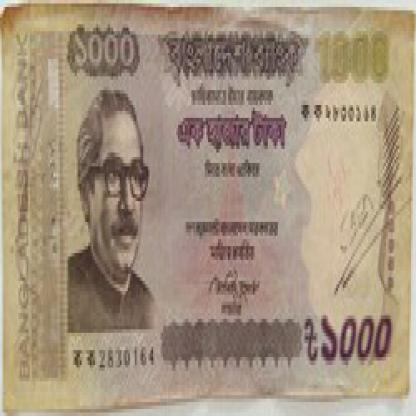One Thousand taka: (311, 31, 391, 94), (303, 312, 393, 364), (70, 21, 140, 83)
